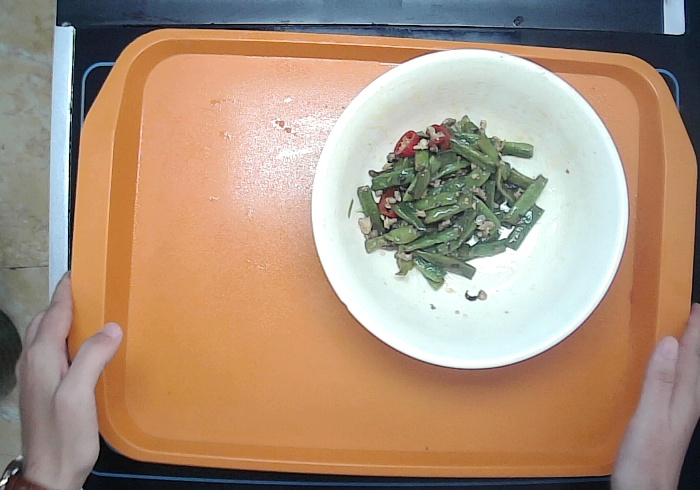ZNLD-Da_Tang_Wan: (309, 45, 630, 372)
